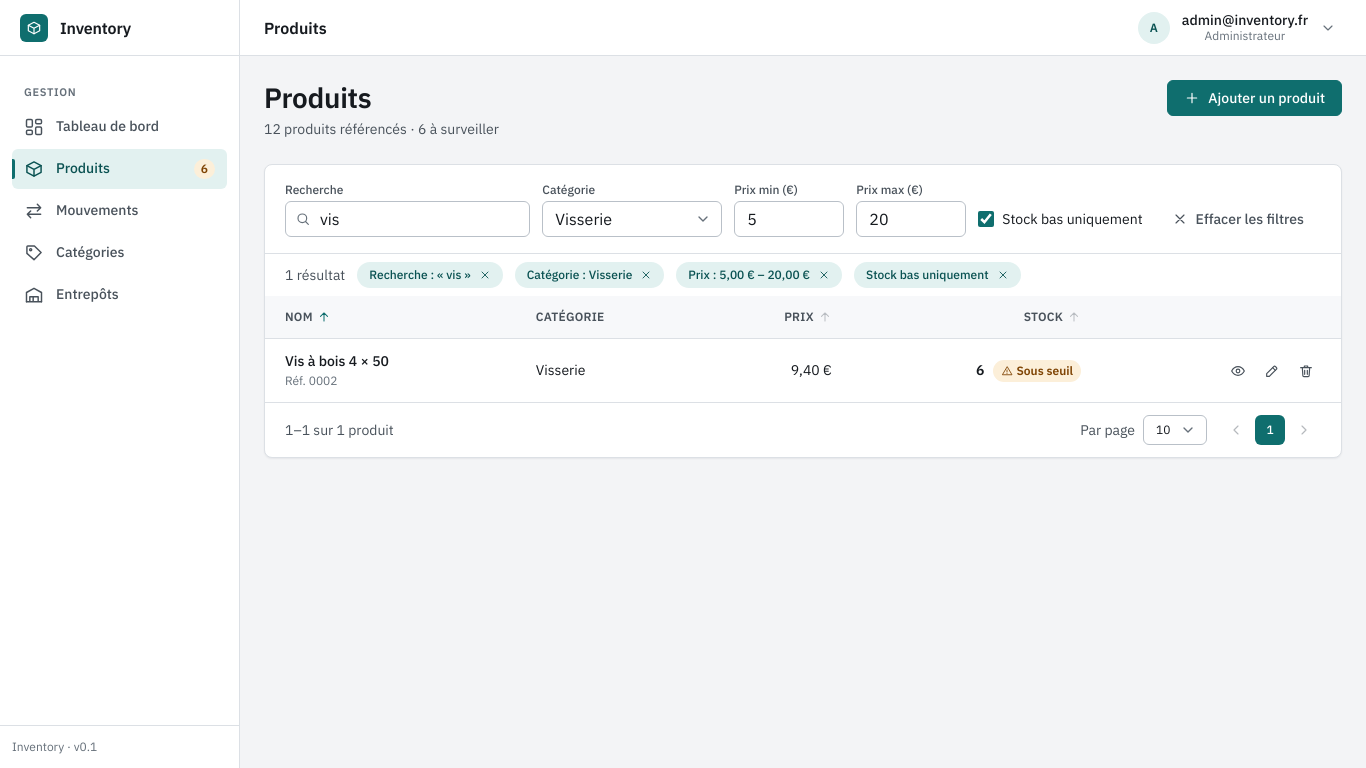
ProductsPage › filters › removes a single filter with its chip
Expected: the heading "Produits" is shown, [264,79,372,116]
Expected: the text "Recherche : « vis »" is shown, [357,262,503,288]
Click the button named "Retirer le filtre Catégorie : Visserie" at (646, 275), box [636,265,656,285]
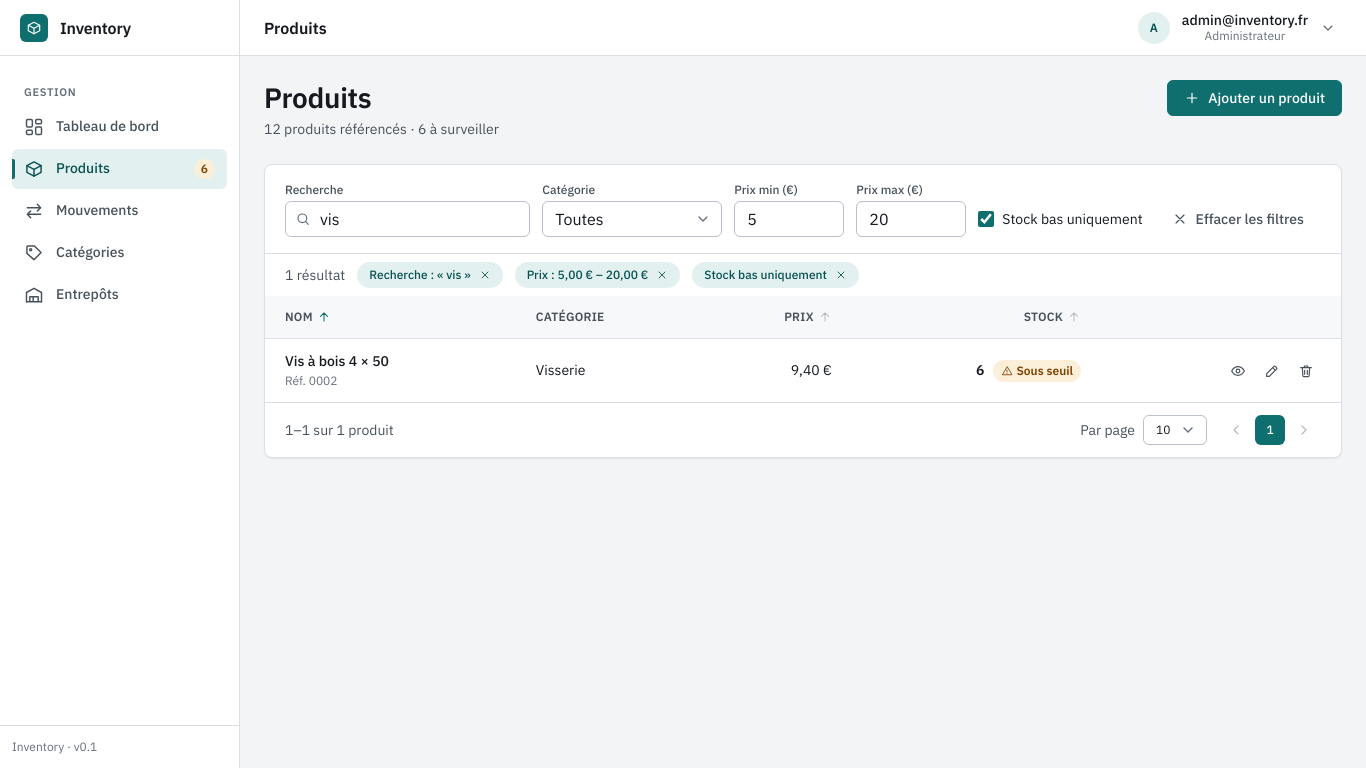
Expected: the dropdown labelled "Catégorie" shows "Toutes", [542,201,722,237]
Click the button named "Retirer le filtre Prix : 5,00 € – 20,00 €" at (662, 275), box [652,265,672,285]
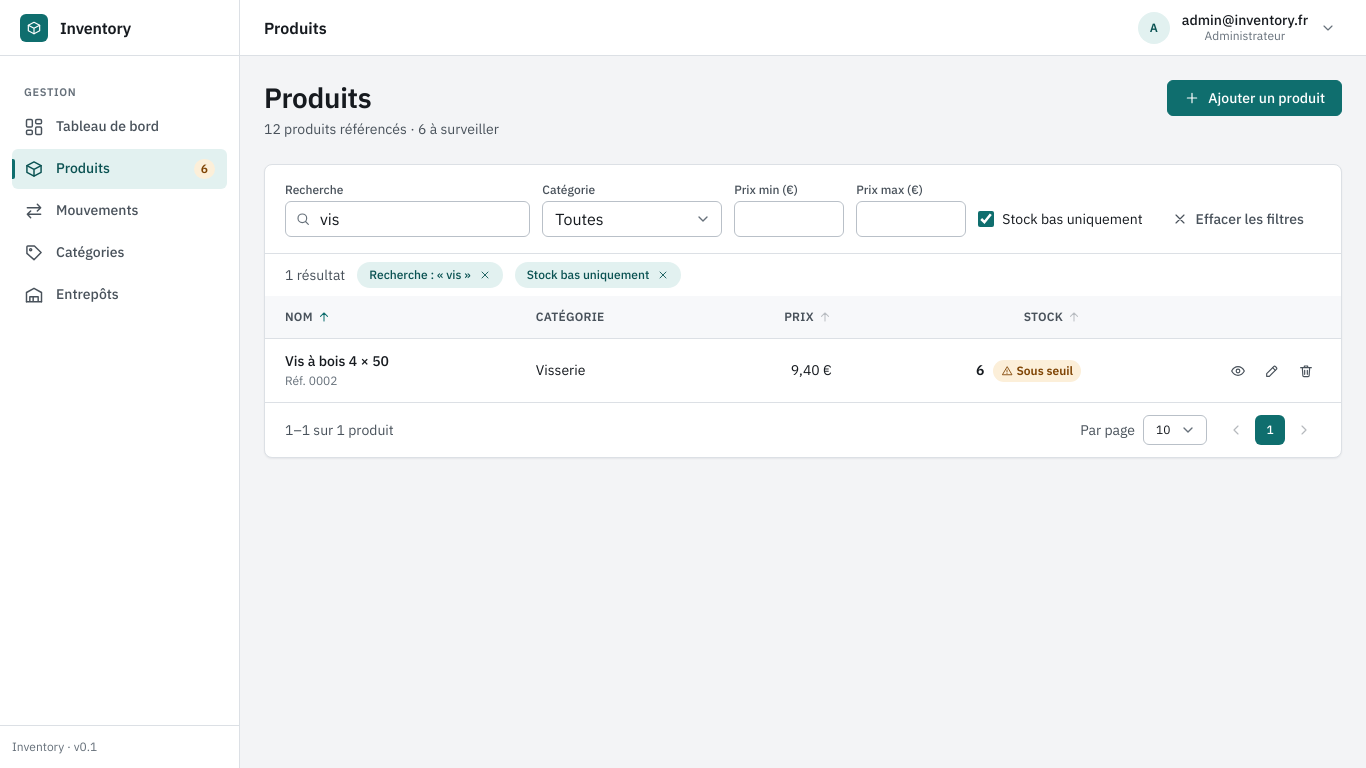
Expected: the number field labelled "Prix min (€)" is not empty, [734,201,844,237]
Expected: the number field labelled "Prix max (€)" is not empty, [856,201,966,237]
Click the button named "Retirer le filtre Stock bas uniquement" at (663, 275), box [653,265,673,285]
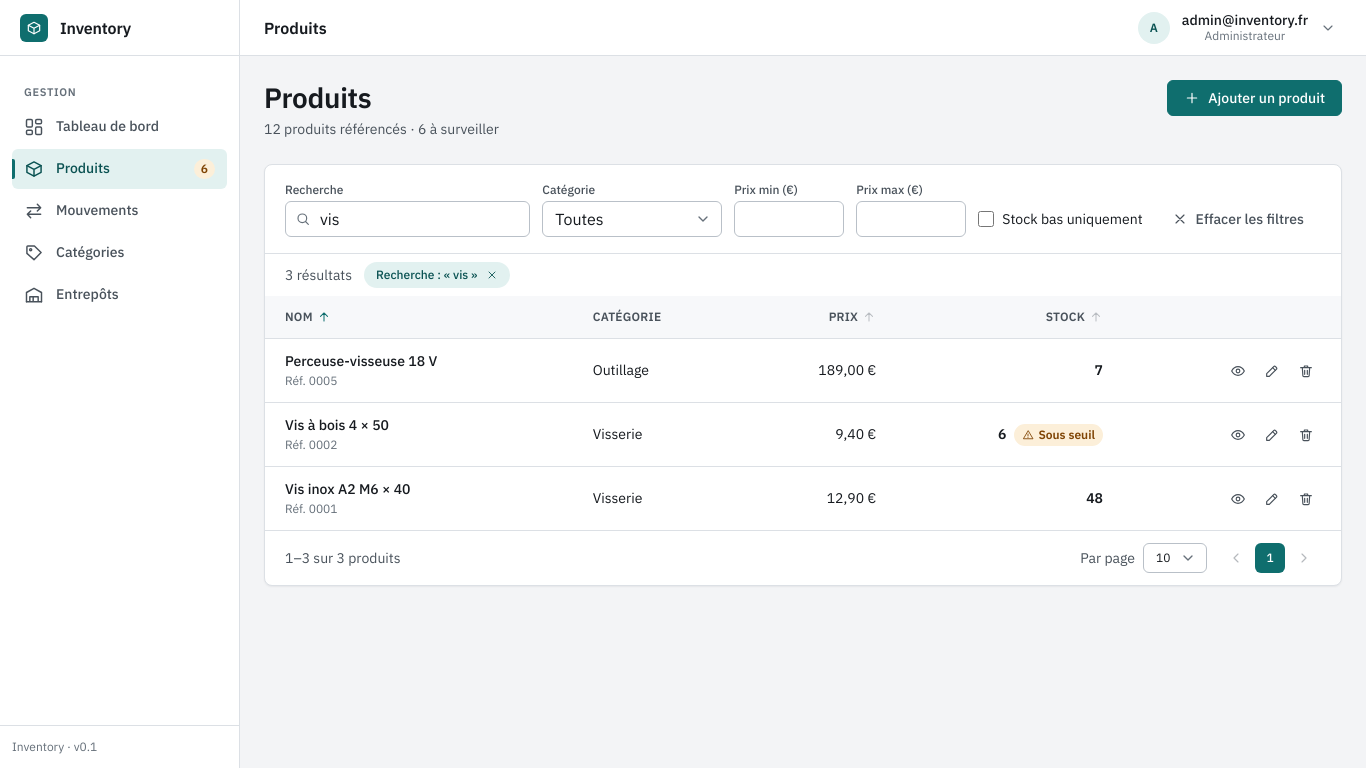
Expected: the checkbox labelled "Stock bas uniquement" is not checked, [978,211,994,227]
Click the button named "Retirer le filtre Recherche : « vis »" at (492, 275), box [482,265,502,285]
(page scrolled)
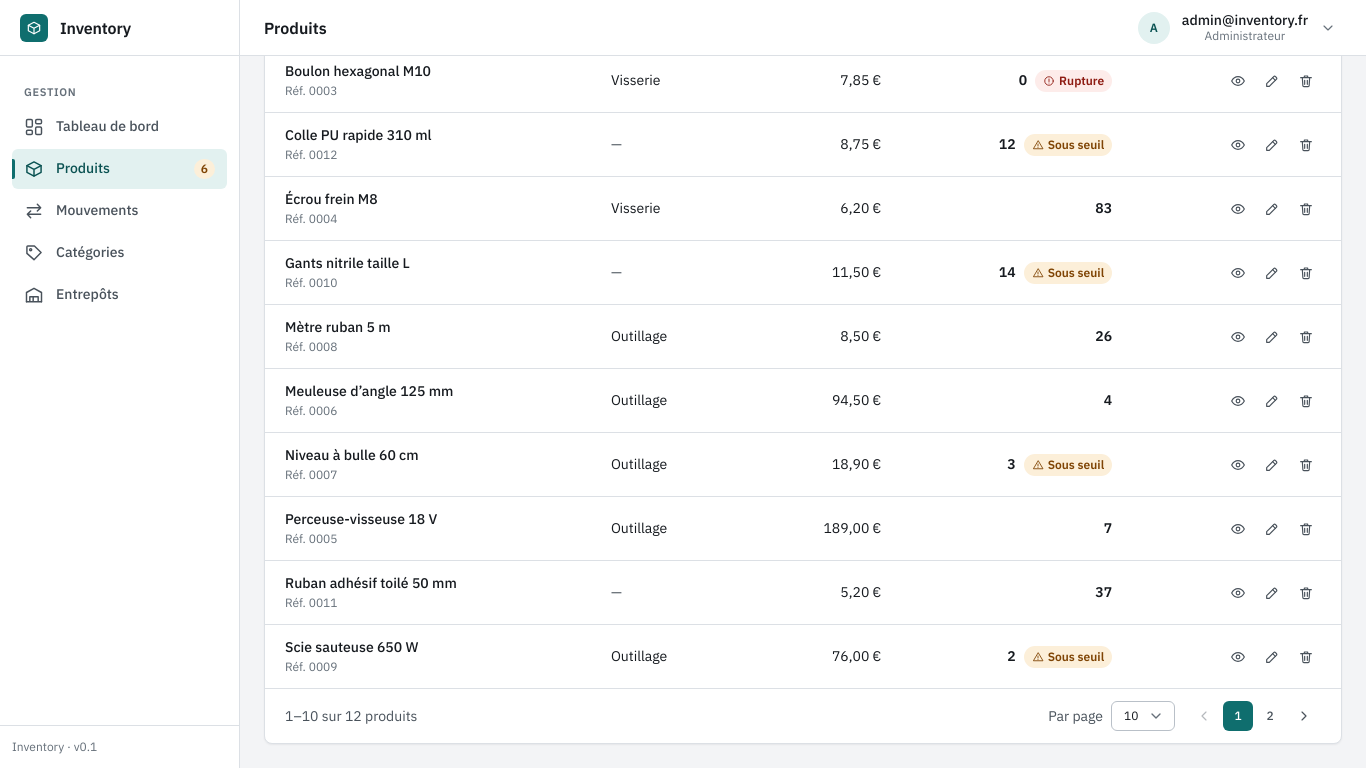
Expected: the button "Effacer les filtres" is gone
Expected: the text "1–10 sur 12 produits" is shown, [285,706,417,724]
